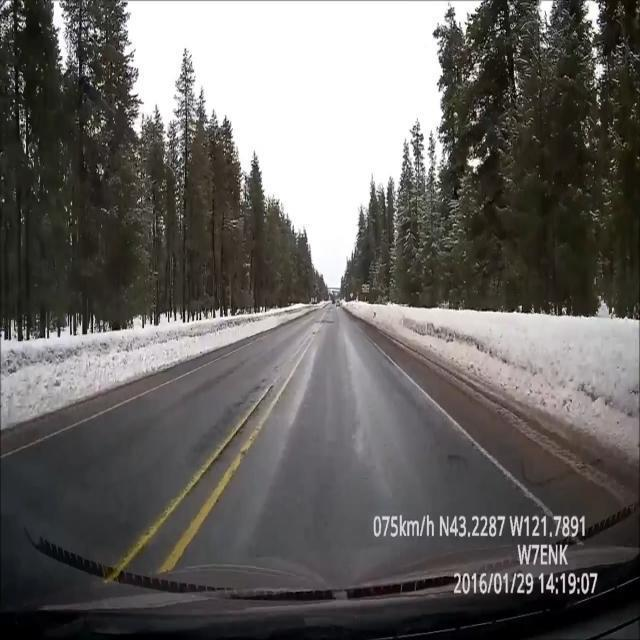pothole: (446, 439, 471, 486)
